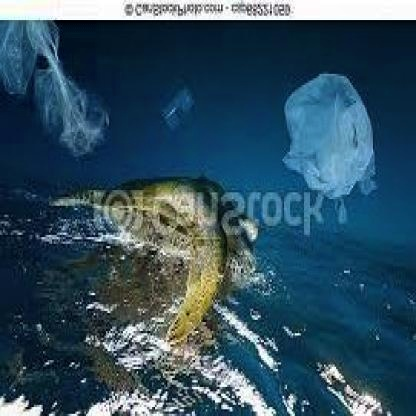pbag: (2, 20, 113, 161), (280, 72, 380, 222)
